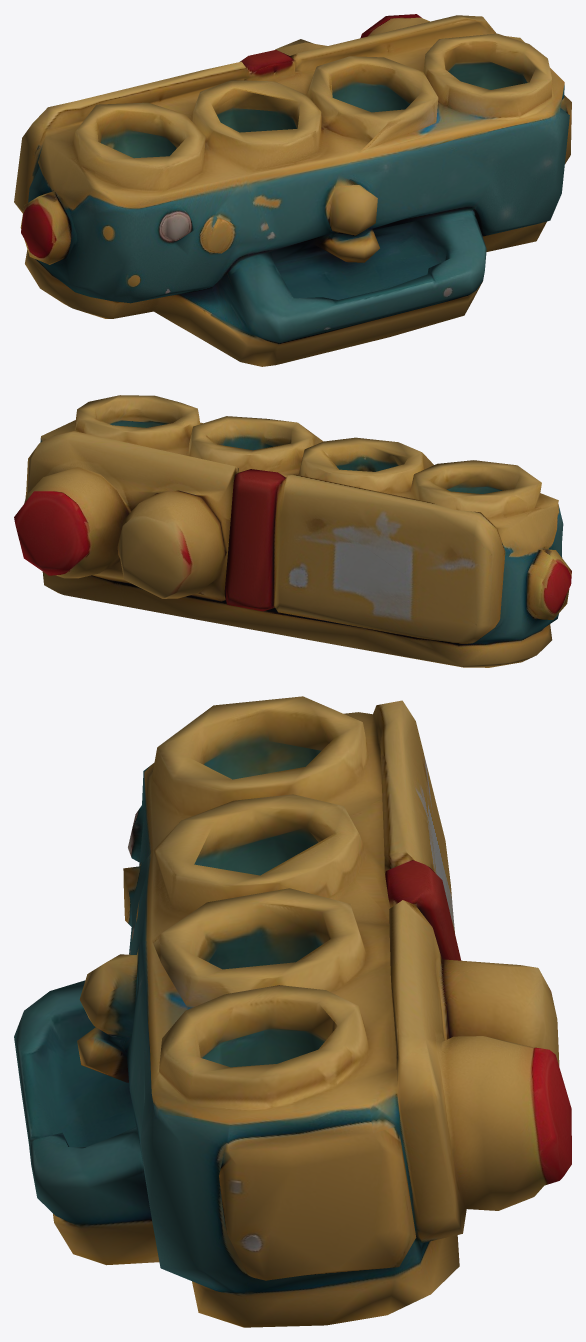
File: weapon_flaming_brass_knuckles_v2_tertiary_1500_raw.glb
3 views of the same model, one above another, from view 1: azimuth 30°, elevation 25°; view 2: azimuth 150°, elevation 25°; view 3: azimuth 270°, elevation 25° (orthographic). The views are drawn at different scales.
Parts seen in each view (by area): view 1: tripo_node_be6df2cd-e1aa-47d8-b3fe-72561554b6fd; view 2: tripo_node_be6df2cd-e1aa-47d8-b3fe-72561554b6fd; view 3: tripo_node_be6df2cd-e1aa-47d8-b3fe-72561554b6fd.
Part boxes in pixels (x1,y1,x2,y2): tripo_node_be6df2cd-e1aa-47d8-b3fe-72561554b6fd: [14, 14, 571, 366]; tripo_node_be6df2cd-e1aa-47d8-b3fe-72561554b6fd: [14, 395, 571, 667]; tripo_node_be6df2cd-e1aa-47d8-b3fe-72561554b6fd: [14, 696, 571, 1327].
Bounding box in the file's own units: 0.9814 × 0.3755 × 0.578.
1 material, 1 textured.
